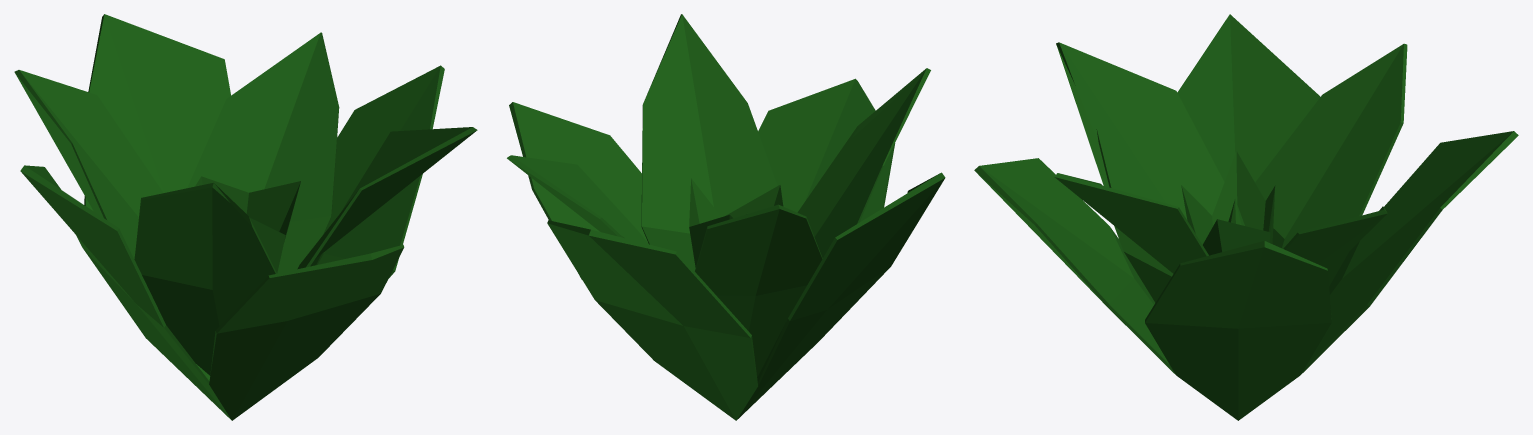
The model's file is Plant 2.3.fbx.
3 renders of one model, left to right at view 1: azimuth 30°, elevation 25°; view 2: azimuth 150°, elevation 25°; view 3: azimuth 270°, elevation 25°, orthographic. The views are drawn at different scales.
Parts seen in each view (by area): view 1: Plant 2.3; view 2: Plant 2.3; view 3: Plant 2.3.
Part boxes in pixels (x1,y1,x2,y2): Plant 2.3: [14, 14, 477, 420]; Plant 2.3: [507, 14, 945, 420]; Plant 2.3: [974, 14, 1518, 420].
Bounding box in the file's own units: 86.69 × 62.15 × 94.06.
